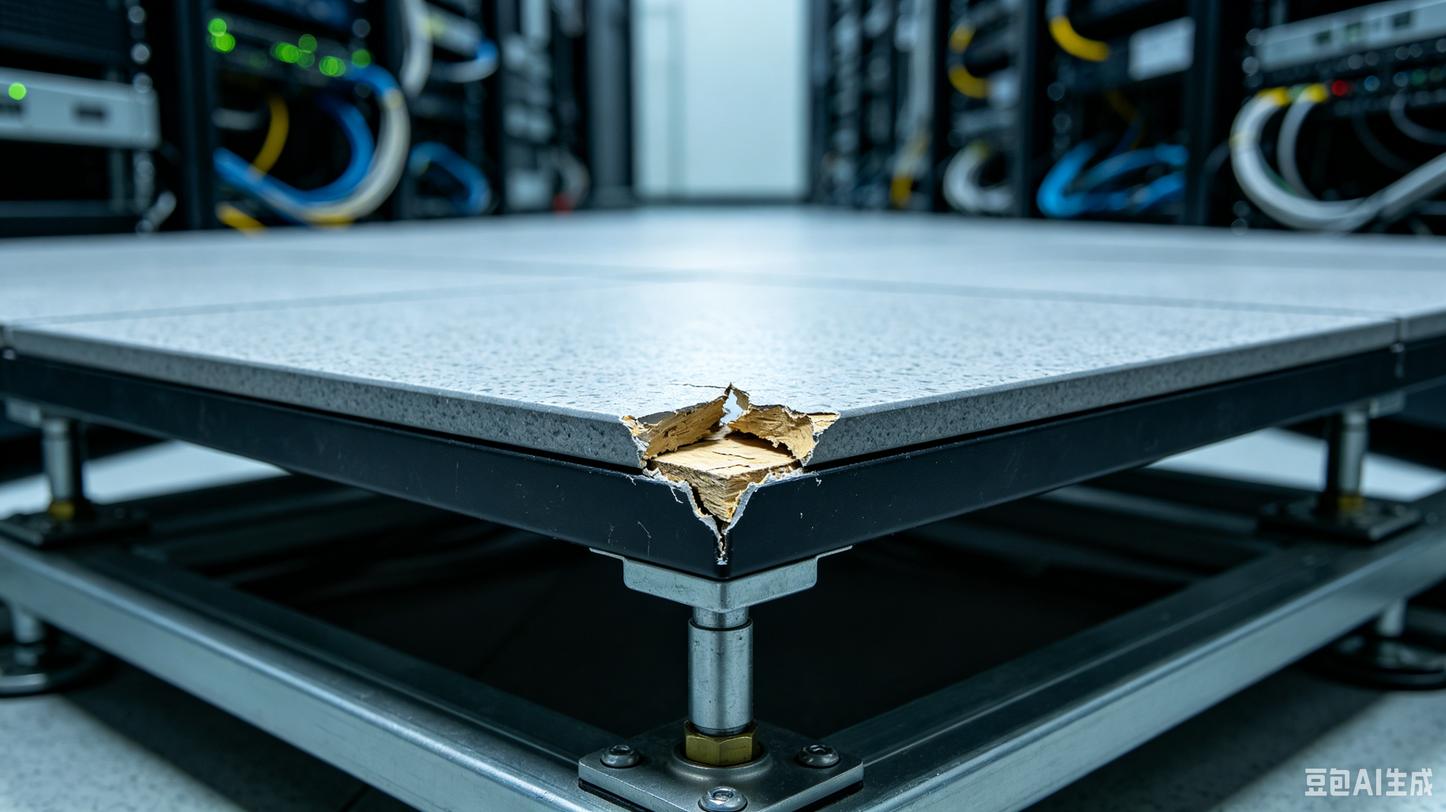floor_defect: (593, 368, 869, 560)
